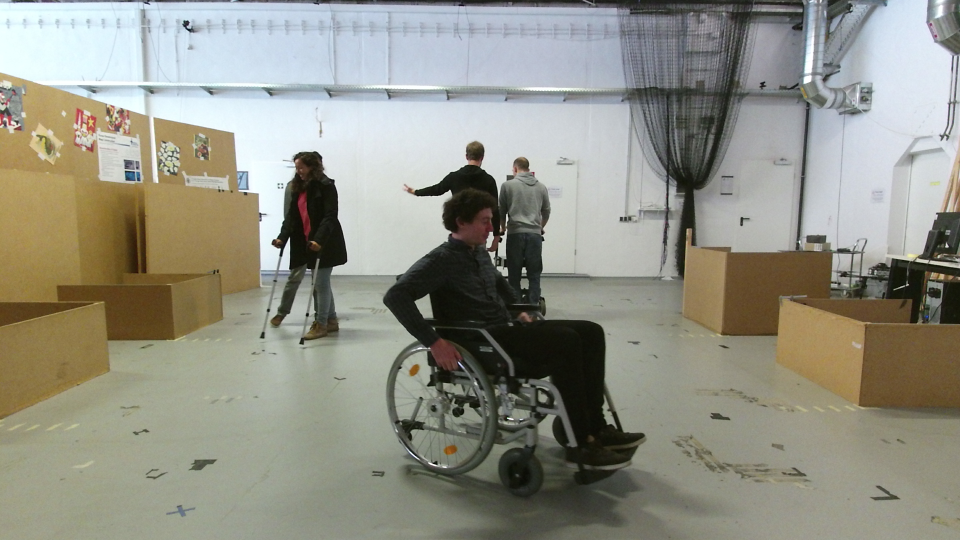crutches: (260, 150, 351, 348)
wheelchair: (374, 197, 641, 494)
